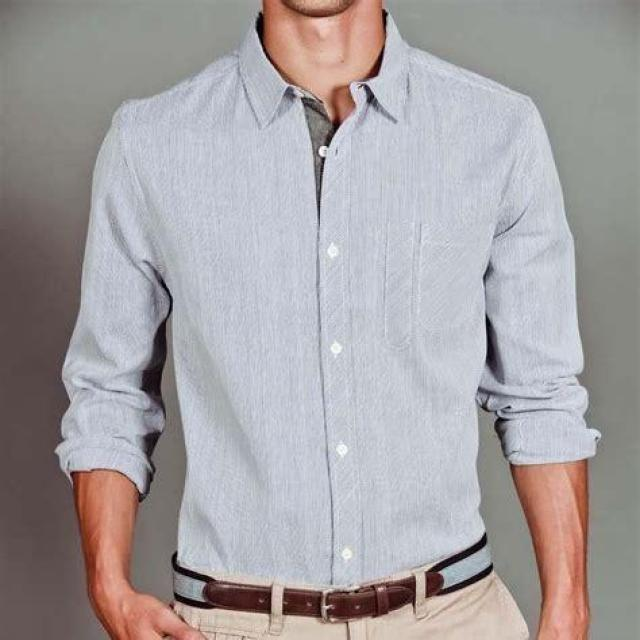shirt: (56, 6, 599, 594)
